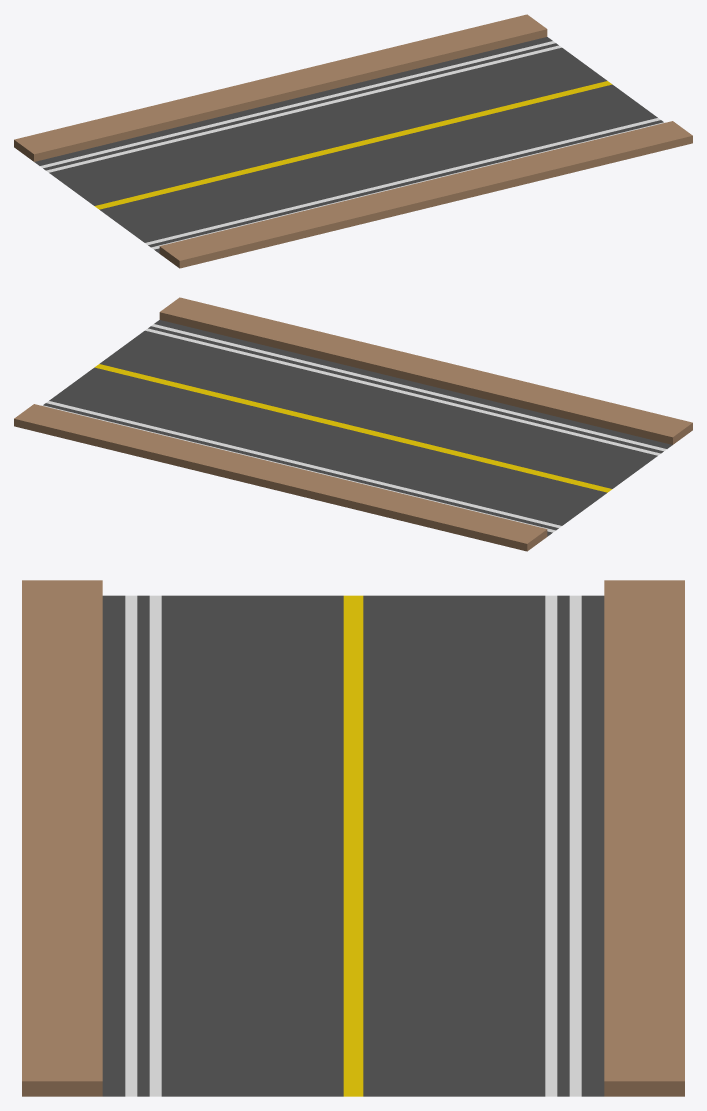
Rendered from Road.fbx.
The picture shows the model from 3 angles, top to bottom: view 1: azimuth 30°, elevation 25°; view 2: azimuth 150°, elevation 25°; view 3: azimuth 270°, elevation 25°; orthographic projection. The views are drawn at different scales.
Visible parts, largest first — view 1: Plane; view 2: Plane; view 3: Plane.
Boxes of the visible parts, x1,y1,x2,y2 form: Plane: (14, 14, 692, 268); Plane: (14, 297, 692, 551); Plane: (22, 580, 684, 1096).
Size of the model in its own units: 200 by 2.85 by 112.
